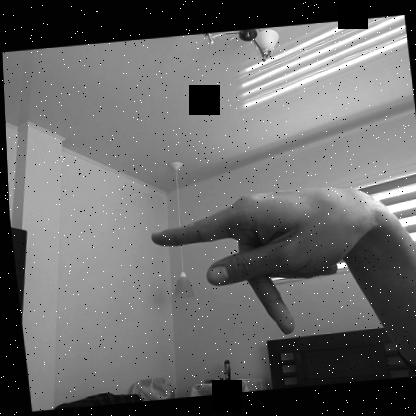P: (144, 184, 376, 347)
